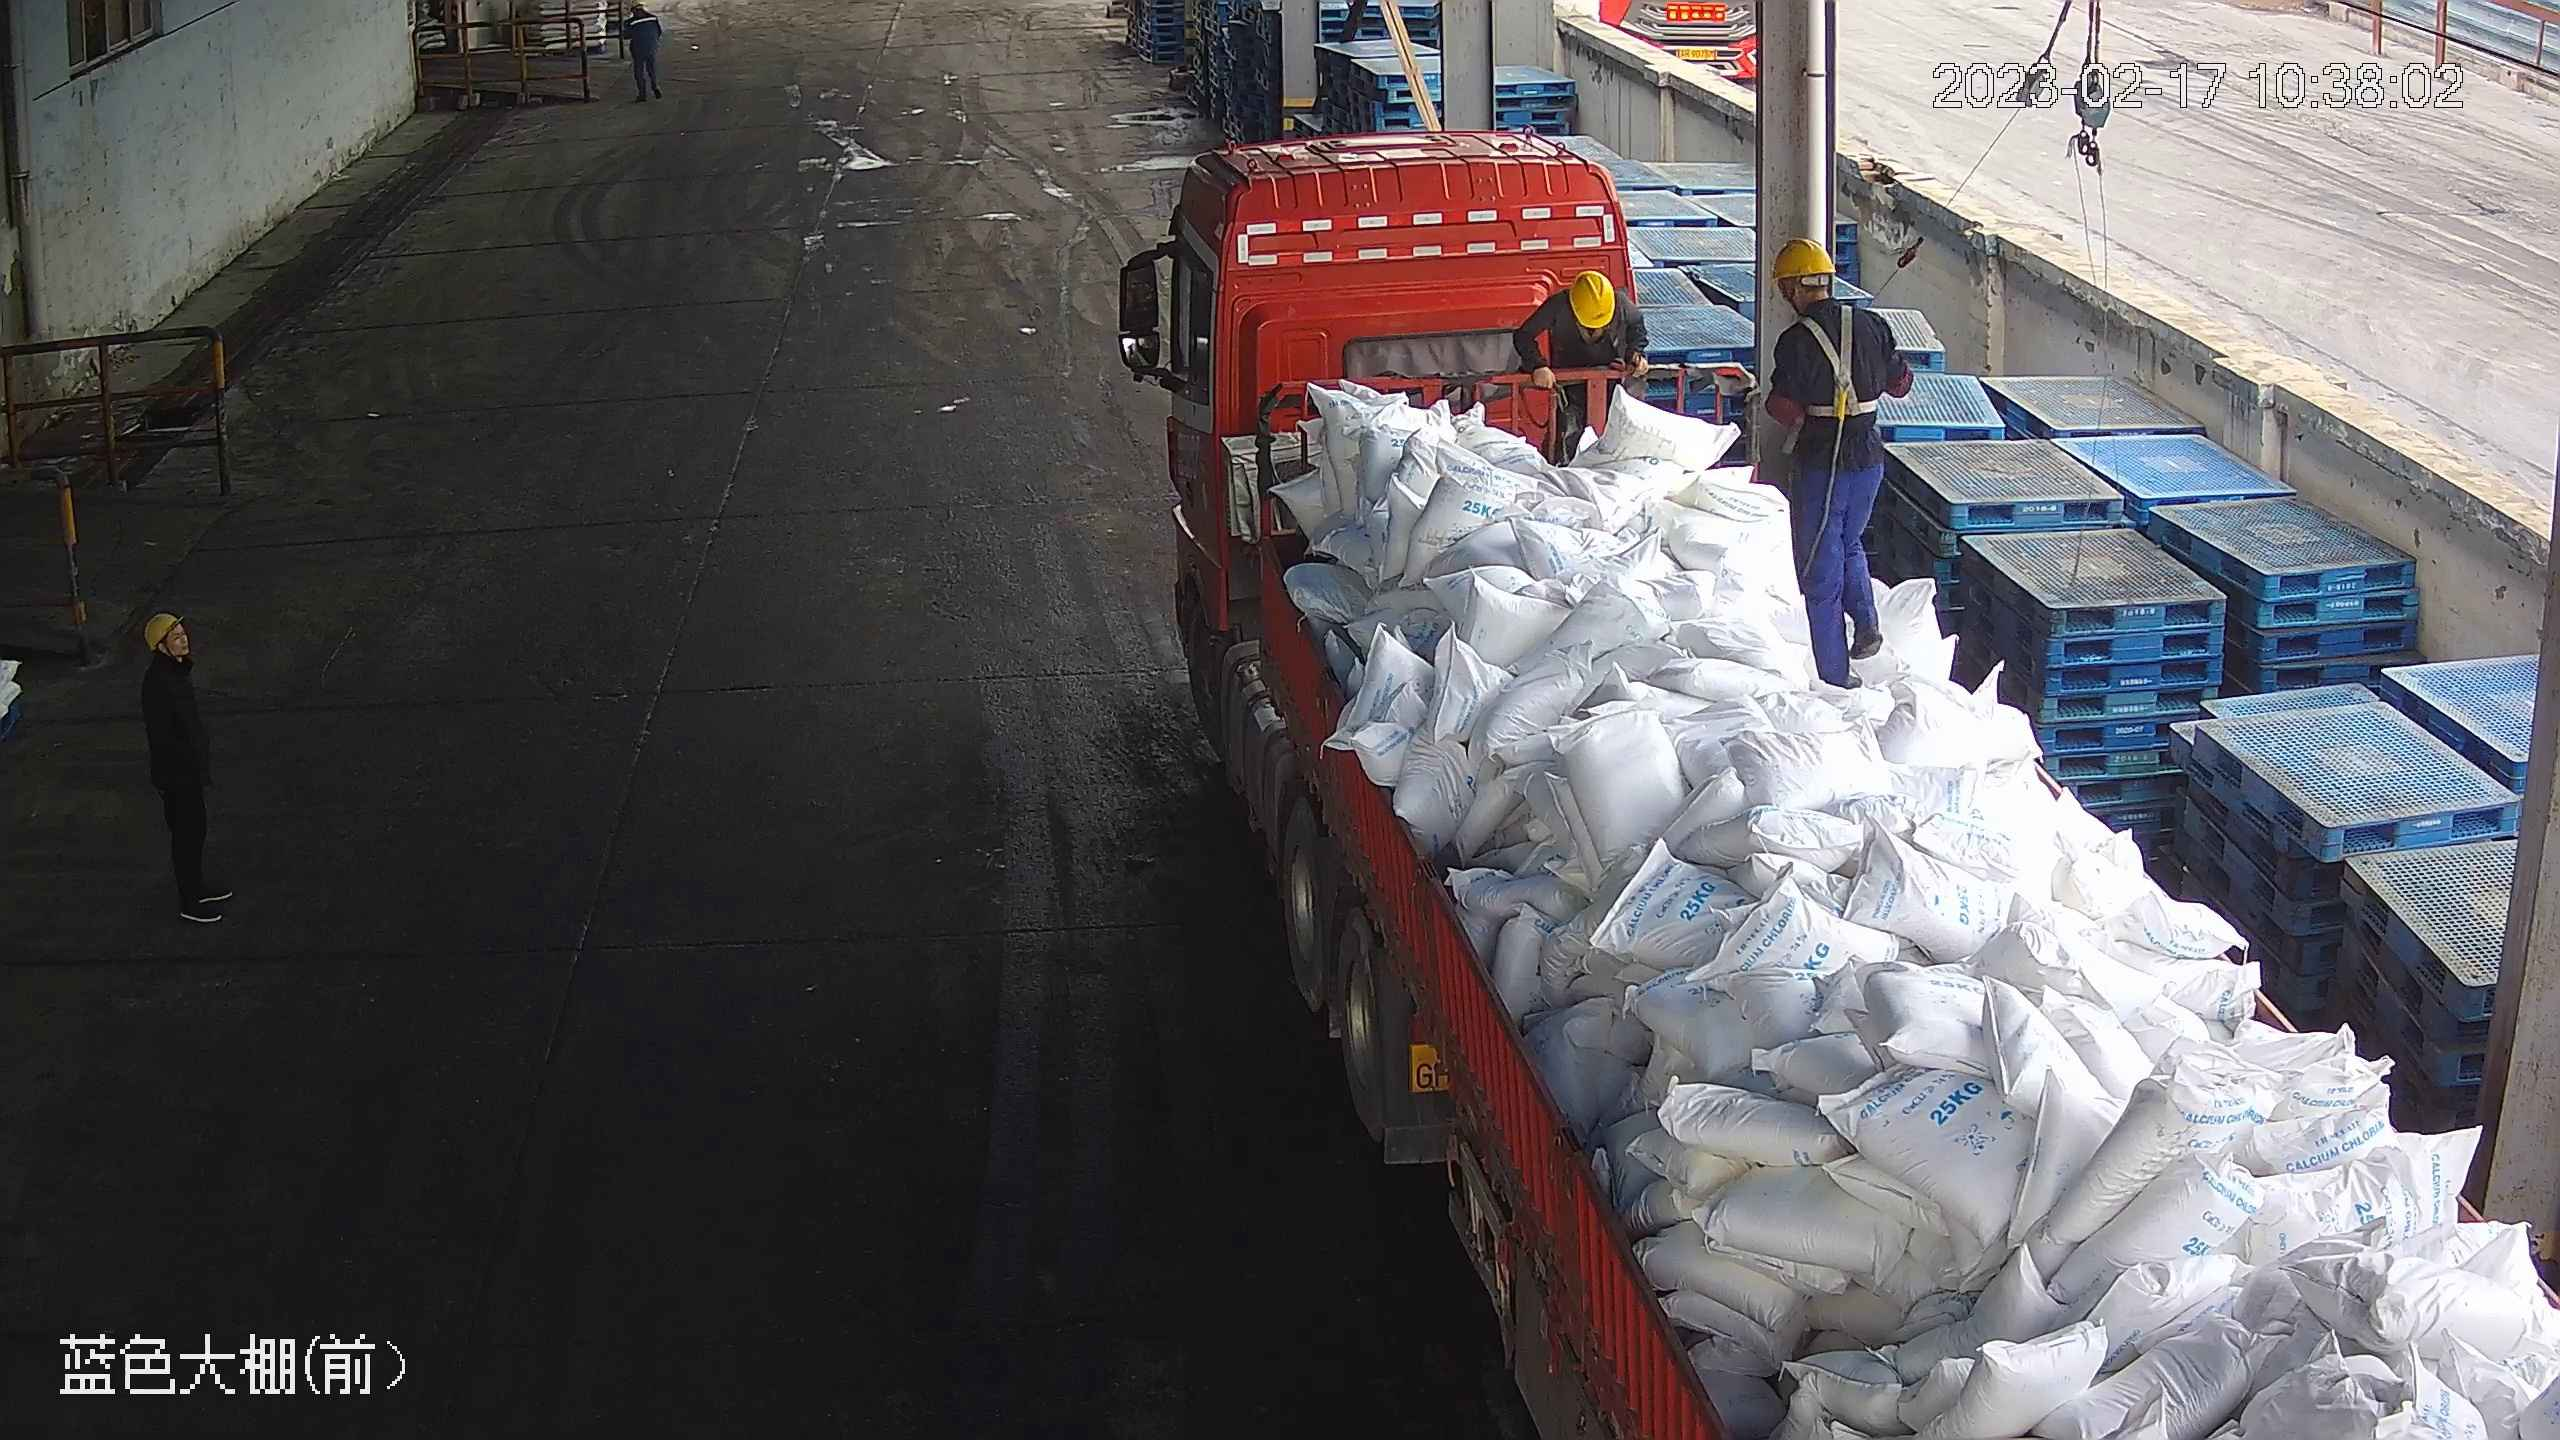belt: (1795, 303, 1881, 428), (1566, 318, 1618, 344)
head: (1766, 237, 1901, 379), (1535, 269, 1644, 347), (142, 611, 213, 711), (624, 1, 661, 32)
helmet: (1769, 233, 1840, 284), (1567, 271, 1617, 327), (144, 611, 184, 649), (630, 1, 647, 10)
people: (1764, 230, 1915, 694), (142, 611, 240, 930), (1517, 269, 1652, 462), (619, 1, 666, 106)
truck: (1110, 118, 2560, 1440)
